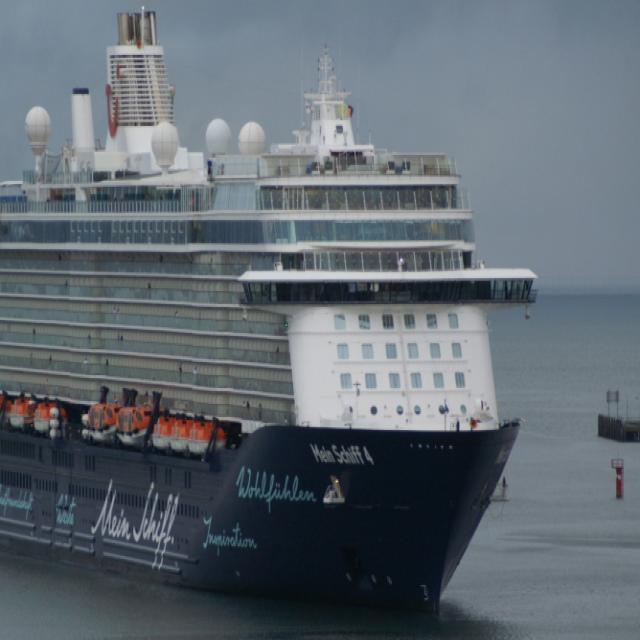cruises: (1, 8, 543, 623)
